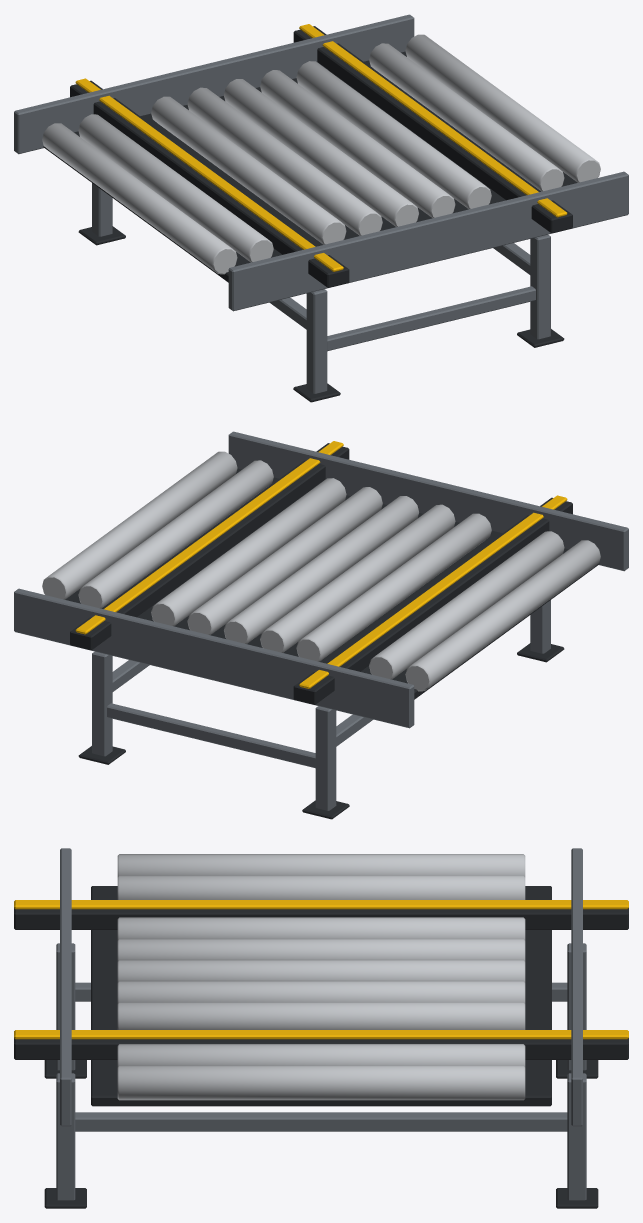
File: chain_transfer.glb
3 views of the same model, one above another, from view 1: azimuth 30°, elevation 25°; view 2: azimuth 150°, elevation 25°; view 3: azimuth 270°, elevation 25° (orthographic). The views are drawn at different scales.
Parts seen in each view (by area): view 1: Transfer_Static, Chains; view 2: Transfer_Static, Chains; view 3: Transfer_Static, Chains.
Boxes of the visible parts, x1=… form: Transfer_Static: x1=14, y1=14, x2=628, y2=402; Chains: x1=70, y1=24, x2=572, y2=287; Transfer_Static: x1=14, y1=431, x2=628, y2=819; Chains: x1=70, y1=441, x2=572, y2=704; Transfer_Static: x1=44, y1=848, x2=598, y2=1208; Chains: x1=14, y1=900, x2=628, y2=1059.
Bounding box in the file's own units: 1.42 × 0.5 × 1.6.
